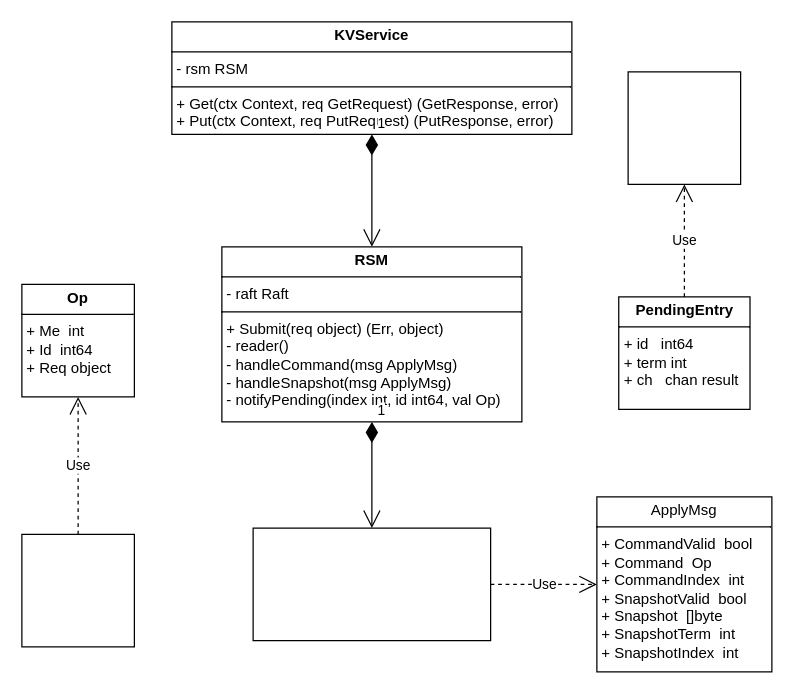
Some shapes in this 794 by 694 pixel diagram are drawn without their labels. Each missing label, with the centre of its shape:
Entity + Index int + Term int Command Op: the point at 77,590
Raft - applyCh chan ApplyMsg - logs Entity[] - applier(): the point at 371,584
Result + id int64 + val object: the point at 684,127
